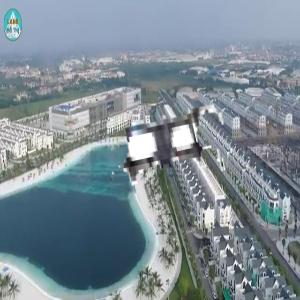drone: (95, 82, 233, 220)
